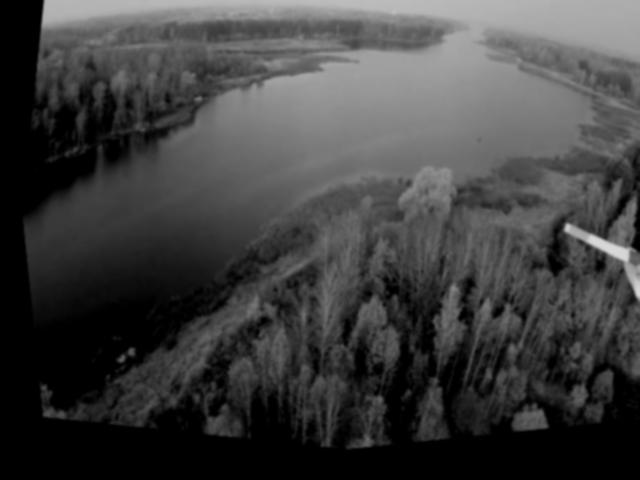hedef: (521, 219, 640, 357)
